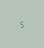five: (19, 20, 23, 27)
